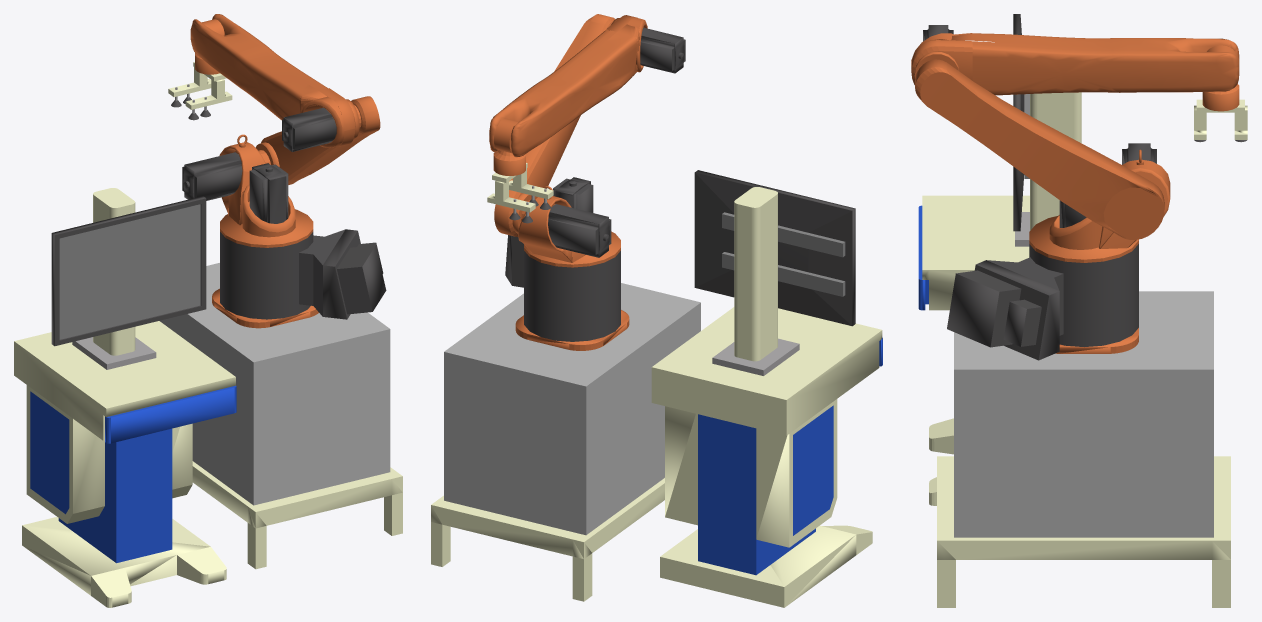
The model's file is ExampleModel.gltf.
3 renders of one model, left to right at view 1: azimuth 30°, elevation 25°; view 2: azimuth 150°, elevation 25°; view 3: azimuth 270°, elevation 25°, orthographic. The views are drawn at different scales.
Visible parts, largest first — view 1: Box002, Box089, 对象004, Rectangle002, Cylinder778, Box097, Box016, Rectangle001.001, Rectangle001, Box092, Box091, Box093 (+5 smaller); view 2: Box089, Box002, Box016, Rectangle002, Rectangle001.001, Cylinder778, Rectangle001, Box092, Cylinder780, Box093, Box090, Box091 (+4 smaller); view 3: Box089, Rectangle002, Rectangle001, Box002, Box097, Cylinder778, Rectangle001.001, Cylinder780, Cylinder779, Box016, Box090, Cylinder783 (+1 smaller).
Part boxes in pixels (x1=…): Box002: x1=14, y1=321, x2=236, y2=607; Box089: x1=159, y1=263, x2=402, y2=569; 对象004: x1=59, y1=204, x2=200, y2=339; Rectangle002: x1=190, y1=14, x2=361, y2=147; Cylinder778: x1=220, y1=209, x2=313, y2=319; Box097: x1=299, y1=229, x2=386, y2=319; Box016: x1=51, y1=196, x2=206, y2=346; Rectangle001.001: x1=72, y1=188, x2=156, y2=369; Rectangle001: x1=255, y1=96, x2=380, y2=184; Box092: x1=182, y1=152, x2=242, y2=200; Box091: x1=249, y1=163, x2=288, y2=223; Box093: x1=282, y1=107, x2=336, y2=151; Box089: x1=431, y1=283, x2=700, y2=601; Box002: x1=651, y1=307, x2=882, y2=607; Box016: x1=694, y1=170, x2=855, y2=326; Rectangle002: x1=489, y1=15, x2=647, y2=157; Rectangle001.001: x1=712, y1=187, x2=799, y2=375; Cylinder778: x1=524, y1=231, x2=620, y2=341; Rectangle001: x1=494, y1=14, x2=615, y2=236; Box092: x1=548, y1=204, x2=611, y2=257; Cylinder780: x1=518, y1=196, x2=585, y2=262; Box093: x1=640, y1=27, x2=685, y2=73; Box090: x1=515, y1=310, x2=629, y2=350; Box091: x1=553, y1=177, x2=593, y2=212; Box089: x1=937, y1=291, x2=1230, y2=607; Rectangle002: x1=911, y1=33, x2=1239, y2=95; Rectangle001: x1=915, y1=59, x2=1164, y2=239; Box002: x1=918, y1=195, x2=1029, y2=505; Box097: x1=947, y1=257, x2=1063, y2=360; Cylinder778: x1=1029, y1=216, x2=1138, y2=346; Rectangle001.001: x1=1015, y1=92, x2=1081, y2=246; Cylinder780: x1=1098, y1=159, x2=1170, y2=248; Cylinder779: x1=1049, y1=215, x2=1102, y2=249; Box016: x1=1013, y1=14, x2=1029, y2=231; Box090: x1=1055, y1=328, x2=1138, y2=353; Cylinder783: x1=1202, y1=84, x2=1239, y2=111.
Size of the model in its own units: 1.21 by 1.57 by 0.9056.
Materials: 2 (2 with a texture image).
